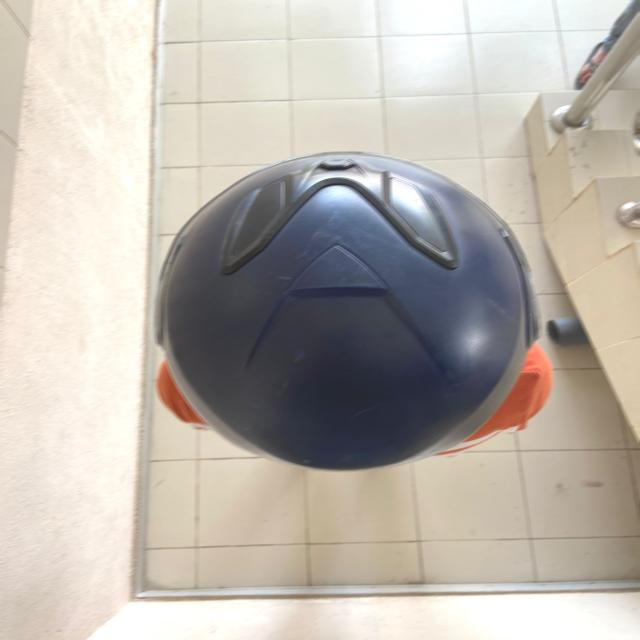With Helmet: (153, 148, 544, 472)
